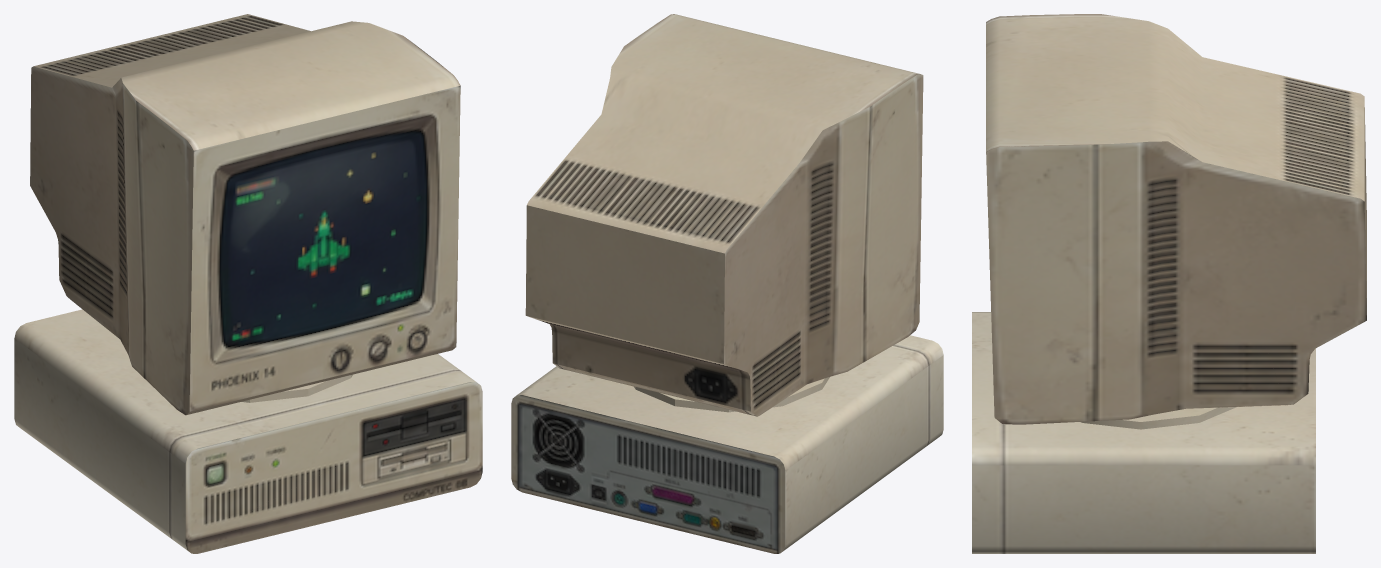
The model's file is simple_computer_placeholder.glb.
The picture shows the model from 3 angles, left to right: view 1: azimuth 30°, elevation 25°; view 2: azimuth 150°, elevation 25°; view 3: azimuth 270°, elevation 25°; orthographic projection. The views are drawn at different scales.
Parts seen in each view (by area): view 1: Cube, Cube.001; view 2: Cube, Cube.001; view 3: Cube, Cube.001.
Boxes of the visible parts, x1,y1,x2,y2 form: Cube: [30, 14, 460, 415]; Cube.001: [14, 309, 482, 553]; Cube: [525, 14, 923, 416]; Cube.001: [511, 335, 943, 553]; Cube: [986, 14, 1366, 429]; Cube.001: [972, 312, 1315, 553].
Size of the model in its own units: 4.02 by 5.24 by 4.61.
Materials: 1 (1 with a texture image).
